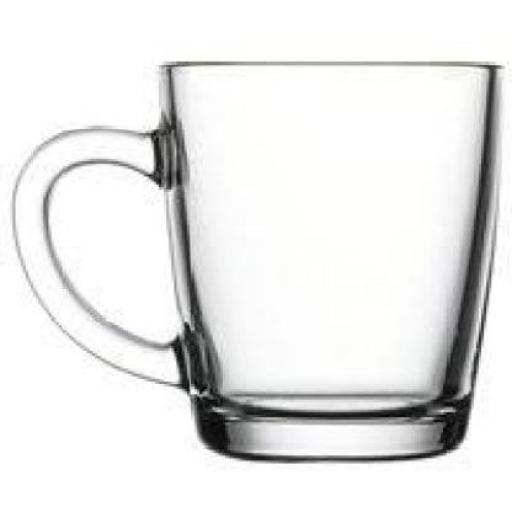glass: (15, 59, 507, 460)
